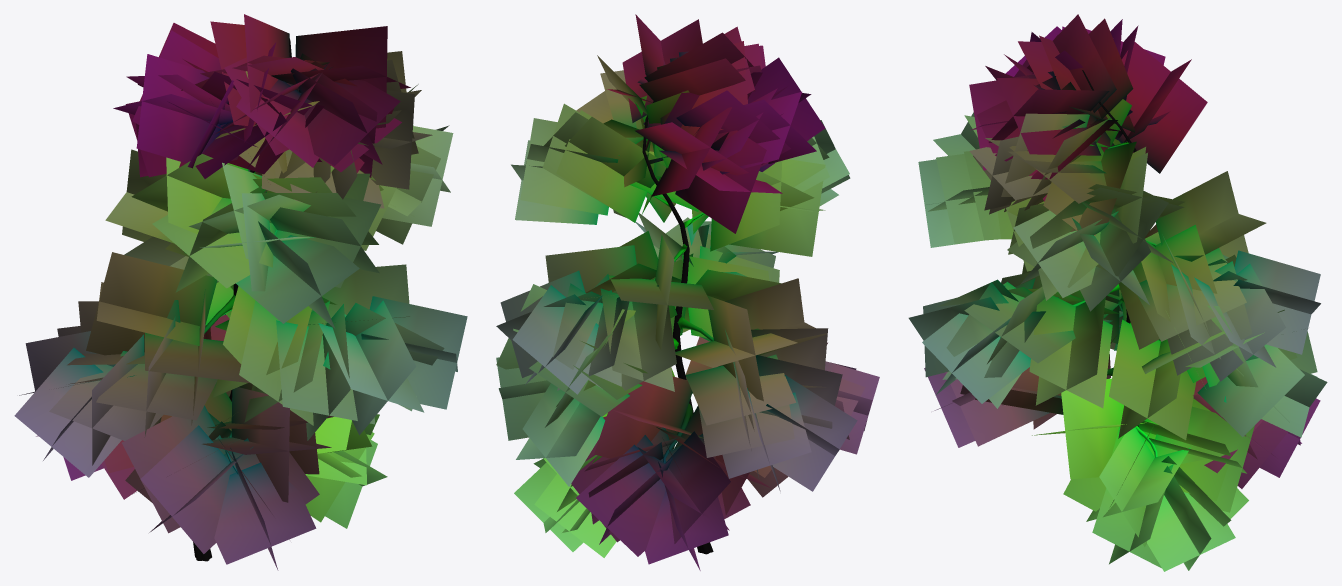
File: URP_P14_Tree_5_LOD_1.fbx
3 renders of one model, left to right at view 1: azimuth 30°, elevation 25°; view 2: azimuth 150°, elevation 25°; view 3: azimuth 270°, elevation 25°, orthographic. The views are drawn at different scales.
Visible parts, largest first — view 1: Tree_5_LOD_1; view 2: Tree_5_LOD_1; view 3: Tree_5_LOD_1.
Part boxes in pixels (left/top/right/bottom): Tree_5_LOD_1: left=14, top=14, right=467, bottom=570; Tree_5_LOD_1: left=496, top=14, right=879, bottom=570; Tree_5_LOD_1: left=908, top=14, right=1327, bottom=571.
Bounding box in the file's own units: 407 × 562 × 419.
